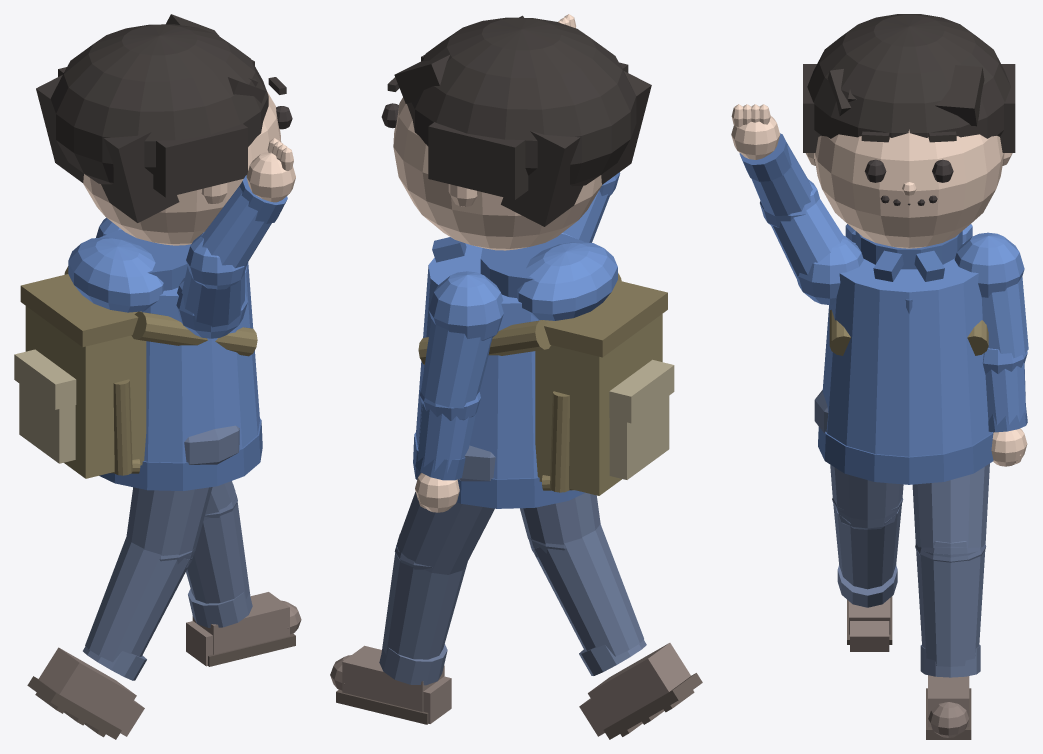
The model's file is 42-kid-with-backpack.glb.
3 views of the same model, side by side, from view 1: azimuth 30°, elevation 25°; view 2: azimuth 150°, elevation 25°; view 3: azimuth 270°, elevation 25° (orthographic). The views are drawn at different scales.
Parts seen in each view (by area): view 1: HairCap, HoodieBody, PackBody, LegR_Shin, Hood, Head, HairSideR, HairBack, LegR_Thigh, PackTopStrap, LegL_Shin, HemBand (+21 smaller); view 2: HairCap, PackBody, HoodieBody, Head, LegR_Shin, Hood, LegL_Shin, HairSideL, HairBack, PackTopStrap, LegL_Thigh, SleeveL_Upper (+23 smaller); view 3: HoodieBody, HairCap, Head, LegL_Shin, HemBand, LegL_Thigh, LegR_Shin, SleeveR_Upper, ShoulderL, SleeveL_Upper, LegR_Thigh, ShoulderR (+26 smaller).
Part boxes in pixels (x1,y1,x2,y2): HairCap: [50, 24, 268, 184]; HoodieBody: [142, 262, 259, 462]; PackBody: [25, 306, 146, 478]; LegR_Shin: [85, 536, 192, 662]; Hood: [68, 237, 163, 312]; Head: [83, 91, 281, 245]; HairSideR: [153, 123, 247, 197]; HairBack: [36, 75, 179, 222]; LegR_Thigh: [126, 487, 212, 555]; PackTopStrap: [20, 274, 141, 347]; LegL_Shin: [186, 495, 250, 603]; HemBand: [99, 418, 262, 490]; HairCap: [407, 17, 636, 186]; PackBody: [535, 314, 662, 495]; HoodieBody: [416, 243, 539, 478]; Head: [393, 97, 601, 250]; LegR_Shin: [531, 524, 643, 656]; Hood: [517, 241, 617, 320]; LegL_Shin: [381, 545, 467, 659]; HairSideL: [428, 122, 528, 199]; HairBack: [501, 71, 651, 226]; PackTopStrap: [540, 280, 667, 357]; LegL_Thigh: [397, 492, 494, 574]; SleeveL_Upper: [421, 319, 492, 408]; HoodieBody: [822, 242, 991, 456]; HairCap: [807, 14, 1010, 138]; Head: [814, 129, 1004, 248]; LegL_Shin: [916, 550, 985, 666]; HemBand: [818, 426, 993, 484]; LegL_Thigh: [912, 463, 989, 548]; LegR_Shin: [833, 504, 901, 589]; SleeveR_Upper: [771, 198, 844, 279]; ShoulderL: [954, 232, 1024, 297]; SleeveL_Upper: [981, 276, 1028, 358]; LegR_Thigh: [830, 465, 903, 520]; ShoulderR: [797, 236, 863, 304].
Size of the model in its own units: 0.8659 by 1.83 by 0.7524.
